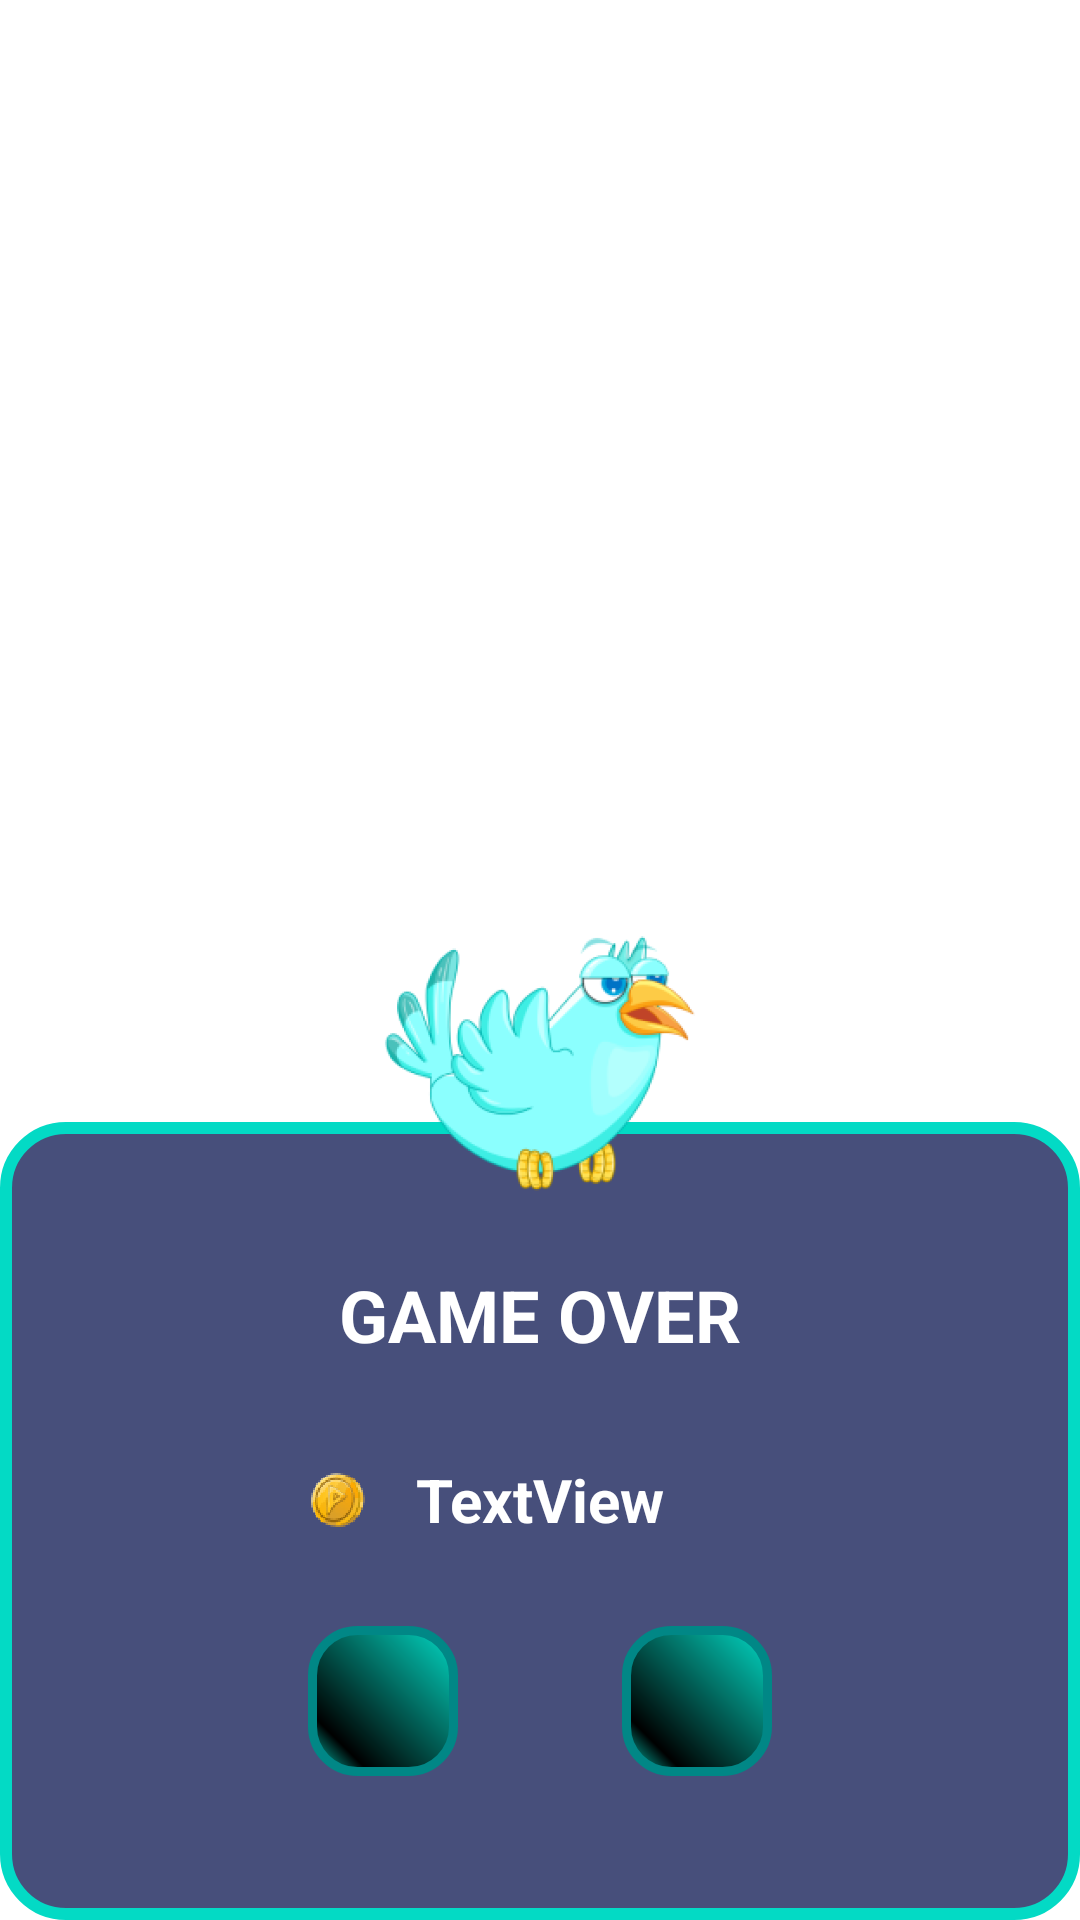

Where to tap for icons on this 1080×1920 app screen, as point (x, y):
bird: point (540, 1064)
money: point (338, 1500)
